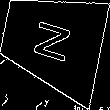N_W: (29, 16, 76, 67)
